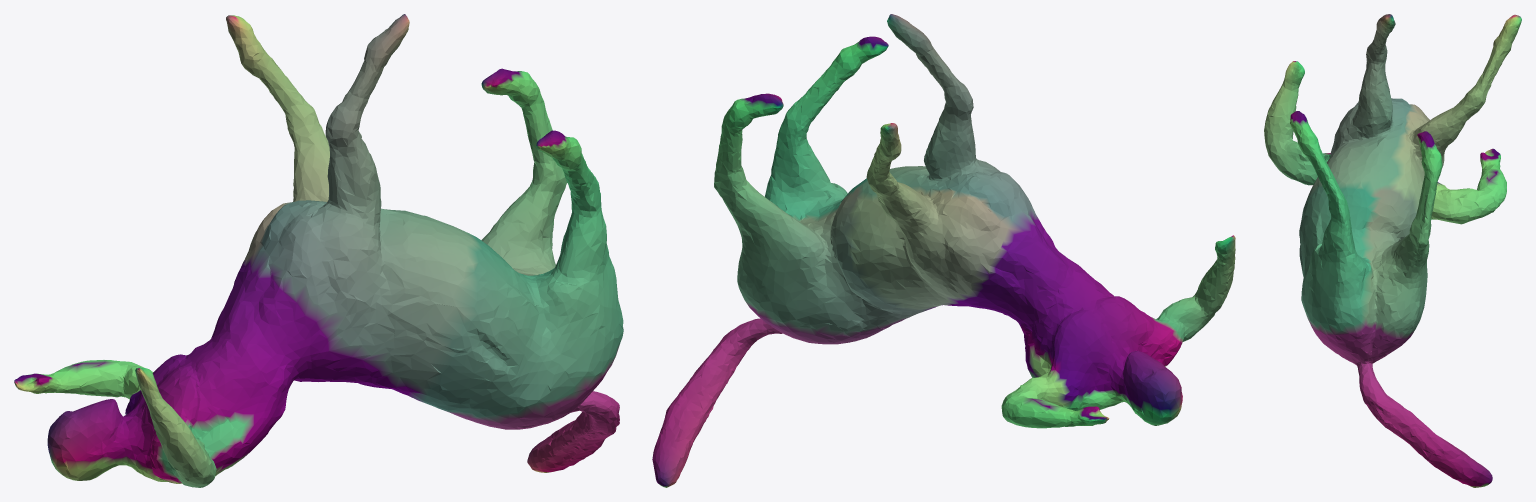
File: centaur-6.off.obj
3 renders of one model, left to right at view 1: azimuth 30°, elevation 25°; view 2: azimuth 150°, elevation 25°; view 3: azimuth 270°, elevation 25°, orthographic. The views are drawn at different scales.
Size of the model in its own units: 1.38 by 1.28 by 0.7423.
